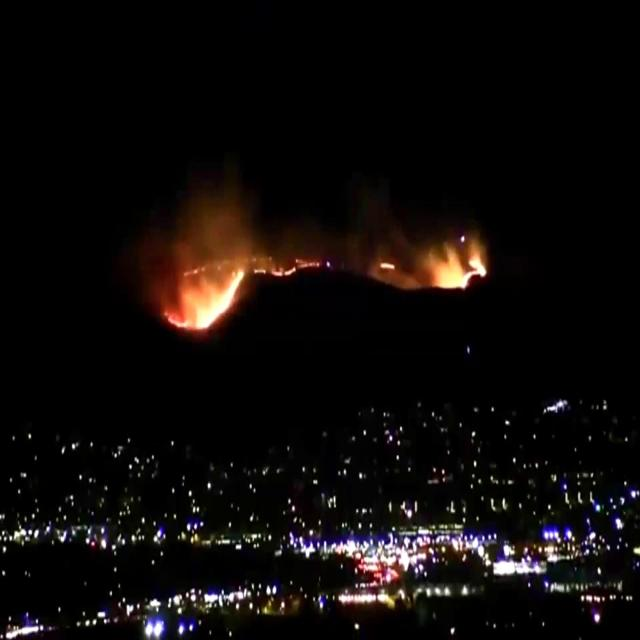Fire: (167, 251, 246, 328), (435, 231, 488, 291), (254, 254, 319, 277), (380, 262, 395, 271)
